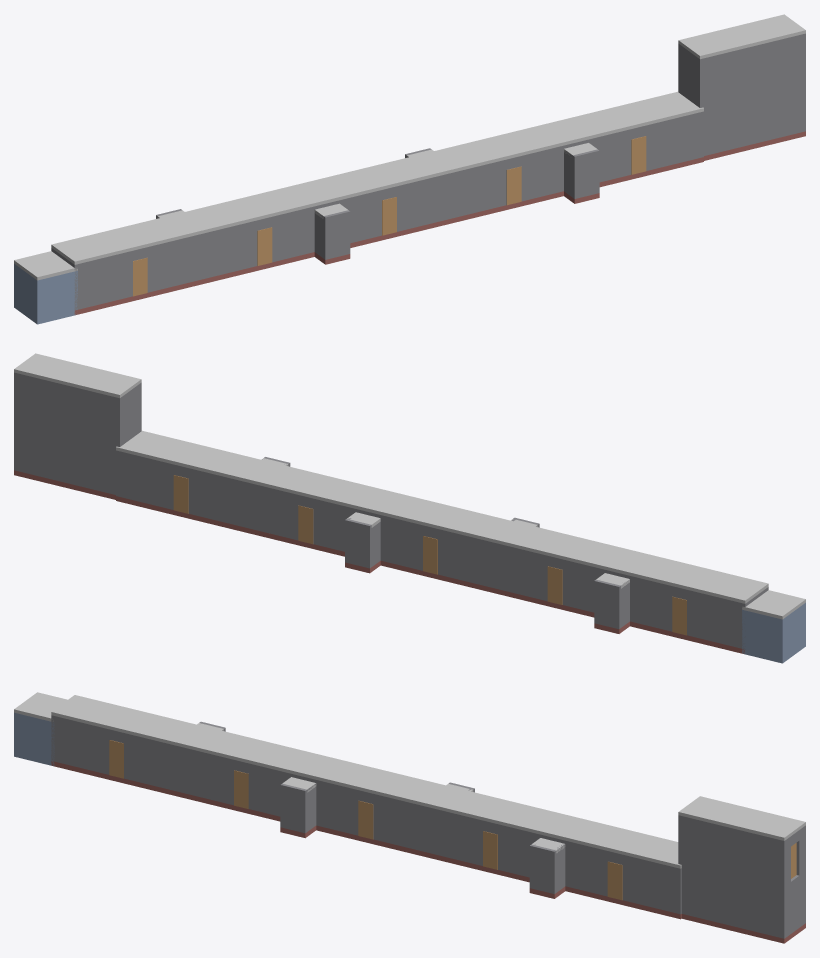
Rendered from floor_1_lower.glb.
3 views of the same model, one above another, from view 1: azimuth 30°, elevation 25°; view 2: azimuth 150°, elevation 25°; view 3: azimuth 330°, elevation 25° (orthographic).
Visible parts, largest first — view 1: Corridor_Ceiling, Stairwell_Wall_S, Corridor_Wall_S_3, Corridor_Wall_S_9, Corridor_Floor, Stairwell_Ceiling, Corridor_Wall_S_1, Corridor_Wall_S_15, Corridor_Wall_S_5, Corridor_Wall_S_11, LiftCar_Wall_S_1, Corridor_Wall_S_13 (+10 smaller); view 2: Corridor_Ceiling, Stairwell_Wall_N, Corridor_Wall_N_13, Corridor_Wall_N_7, Corridor_Floor, Stairwell_Ceiling, Corridor_Wall_N_15, Corridor_Wall_N_1, Corridor_Wall_N_9, Corridor_Wall_N_3, LiftCar_Wall_N_1, Corridor_Wall_N_5 (+10 smaller); view 3: Corridor_Ceiling, Stairwell_Wall_S, Corridor_Wall_S_9, Corridor_Wall_S_3, Corridor_Floor, Corridor_Wall_S_15, Stairwell_Ceiling, Corridor_Wall_S_1, Corridor_Wall_S_7, Corridor_Wall_S_13, Corridor_Wall_S_5, LiftCar_Wall_S_1 (+13 smaller).
Boxes of the visible parts, bbox=[...] form: Corridor_Ceiling: bbox=[51, 91, 703, 264]; Stairwell_Wall_S: bbox=[698, 33, 805, 155]; Corridor_Wall_S_3: bbox=[147, 220, 257, 292]; Corridor_Wall_S_9: bbox=[396, 159, 506, 231]; Corridor_Floor: bbox=[74, 157, 703, 315]; Stairwell_Ceiling: bbox=[678, 14, 805, 59]; Corridor_Wall_S_1: bbox=[73, 251, 132, 310]; Corridor_Wall_S_15: bbox=[646, 111, 703, 170]; Corridor_Wall_S_5: bbox=[272, 205, 320, 262]; Corridor_Wall_S_11: bbox=[521, 145, 566, 201]; LiftCar_Wall_S_1: bbox=[35, 271, 77, 319]; Corridor_Wall_S_13: bbox=[585, 129, 631, 182]; Corridor_Ceiling: bbox=[116, 430, 768, 603]; Stairwell_Wall_N: bbox=[14, 372, 121, 494]; Corridor_Wall_N_13: bbox=[188, 468, 298, 540]; Corridor_Wall_N_7: bbox=[438, 529, 547, 601]; Corridor_Floor: bbox=[116, 496, 744, 653]; Stairwell_Ceiling: bbox=[14, 353, 141, 398]; Corridor_Wall_N_15: bbox=[116, 450, 173, 509]; Corridor_Wall_N_1: bbox=[687, 590, 746, 648]; Corridor_Wall_N_9: bbox=[374, 513, 423, 570]; Corridor_Wall_N_3: bbox=[627, 575, 672, 631]; LiftCar_Wall_N_1: bbox=[742, 609, 784, 658]; Corridor_Wall_N_5: bbox=[562, 559, 607, 612]; Corridor_Ceiling: bbox=[51, 695, 681, 868]; Stairwell_Wall_S: bbox=[678, 815, 786, 938]; Corridor_Wall_S_9: bbox=[373, 794, 483, 865]; Corridor_Wall_S_3: bbox=[124, 733, 233, 805]; Corridor_Floor: bbox=[51, 761, 681, 919]; Corridor_Wall_S_15: bbox=[622, 854, 681, 914]; Stairwell_Ceiling: bbox=[678, 796, 805, 840]; Corridor_Wall_S_1: bbox=[51, 715, 109, 774]; Corridor_Wall_S_7: bbox=[310, 778, 358, 835]; Corridor_Wall_S_13: bbox=[562, 840, 607, 896]; Corridor_Wall_S_5: bbox=[248, 763, 297, 816]; LiftCar_Wall_S_1: bbox=[14, 712, 54, 760].
Size of the model in its own units: 49.4 by 6.5 by 5.
